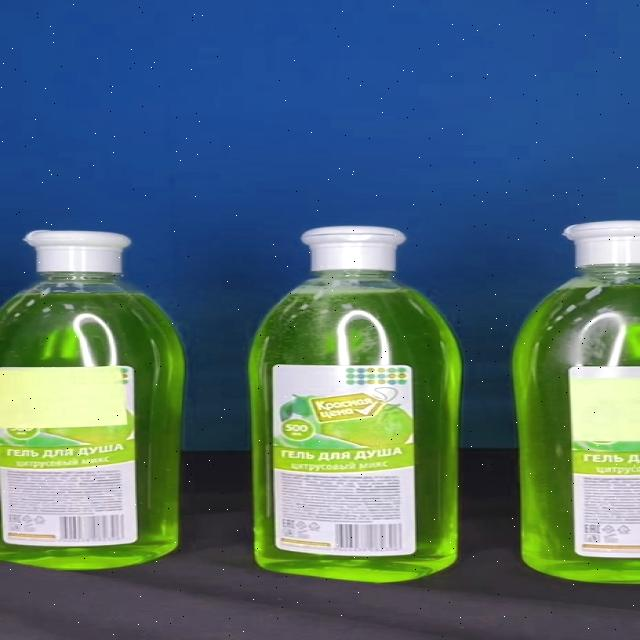Bottle: (247, 226, 461, 582), (0, 230, 185, 570)
Cap: (25, 230, 131, 274), (301, 226, 405, 270)
